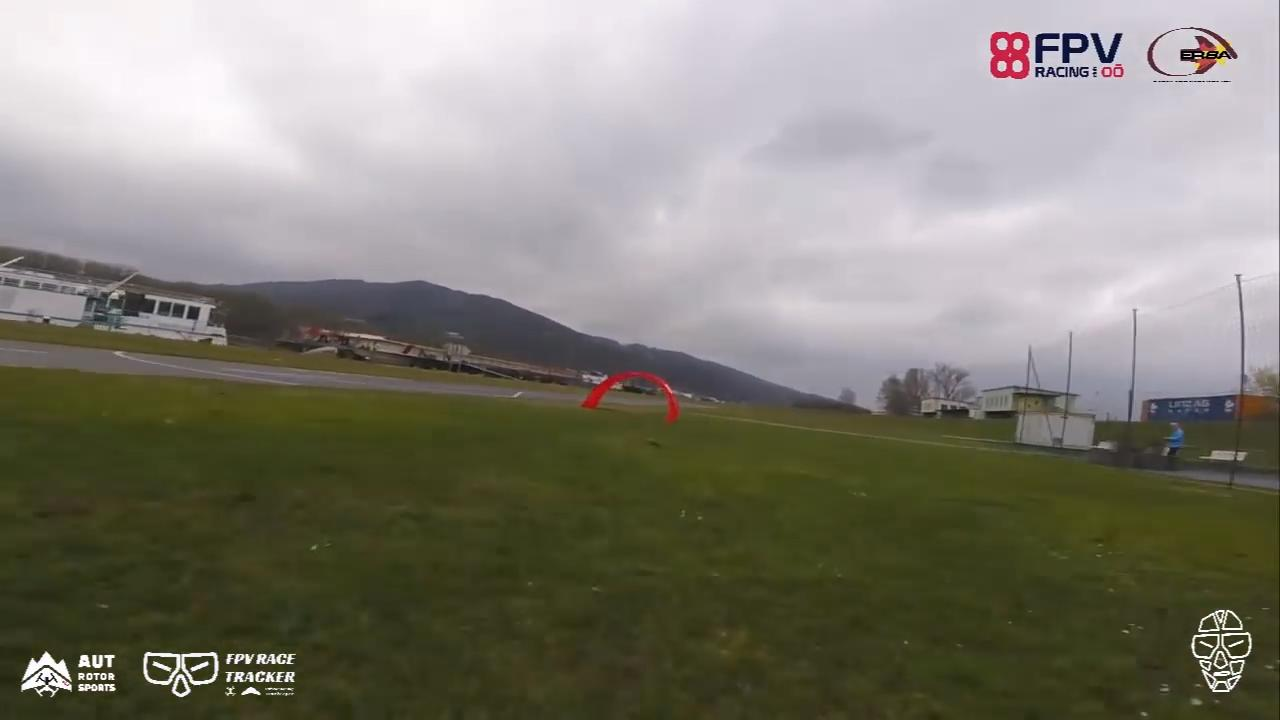gate: (581, 368, 680, 431)
